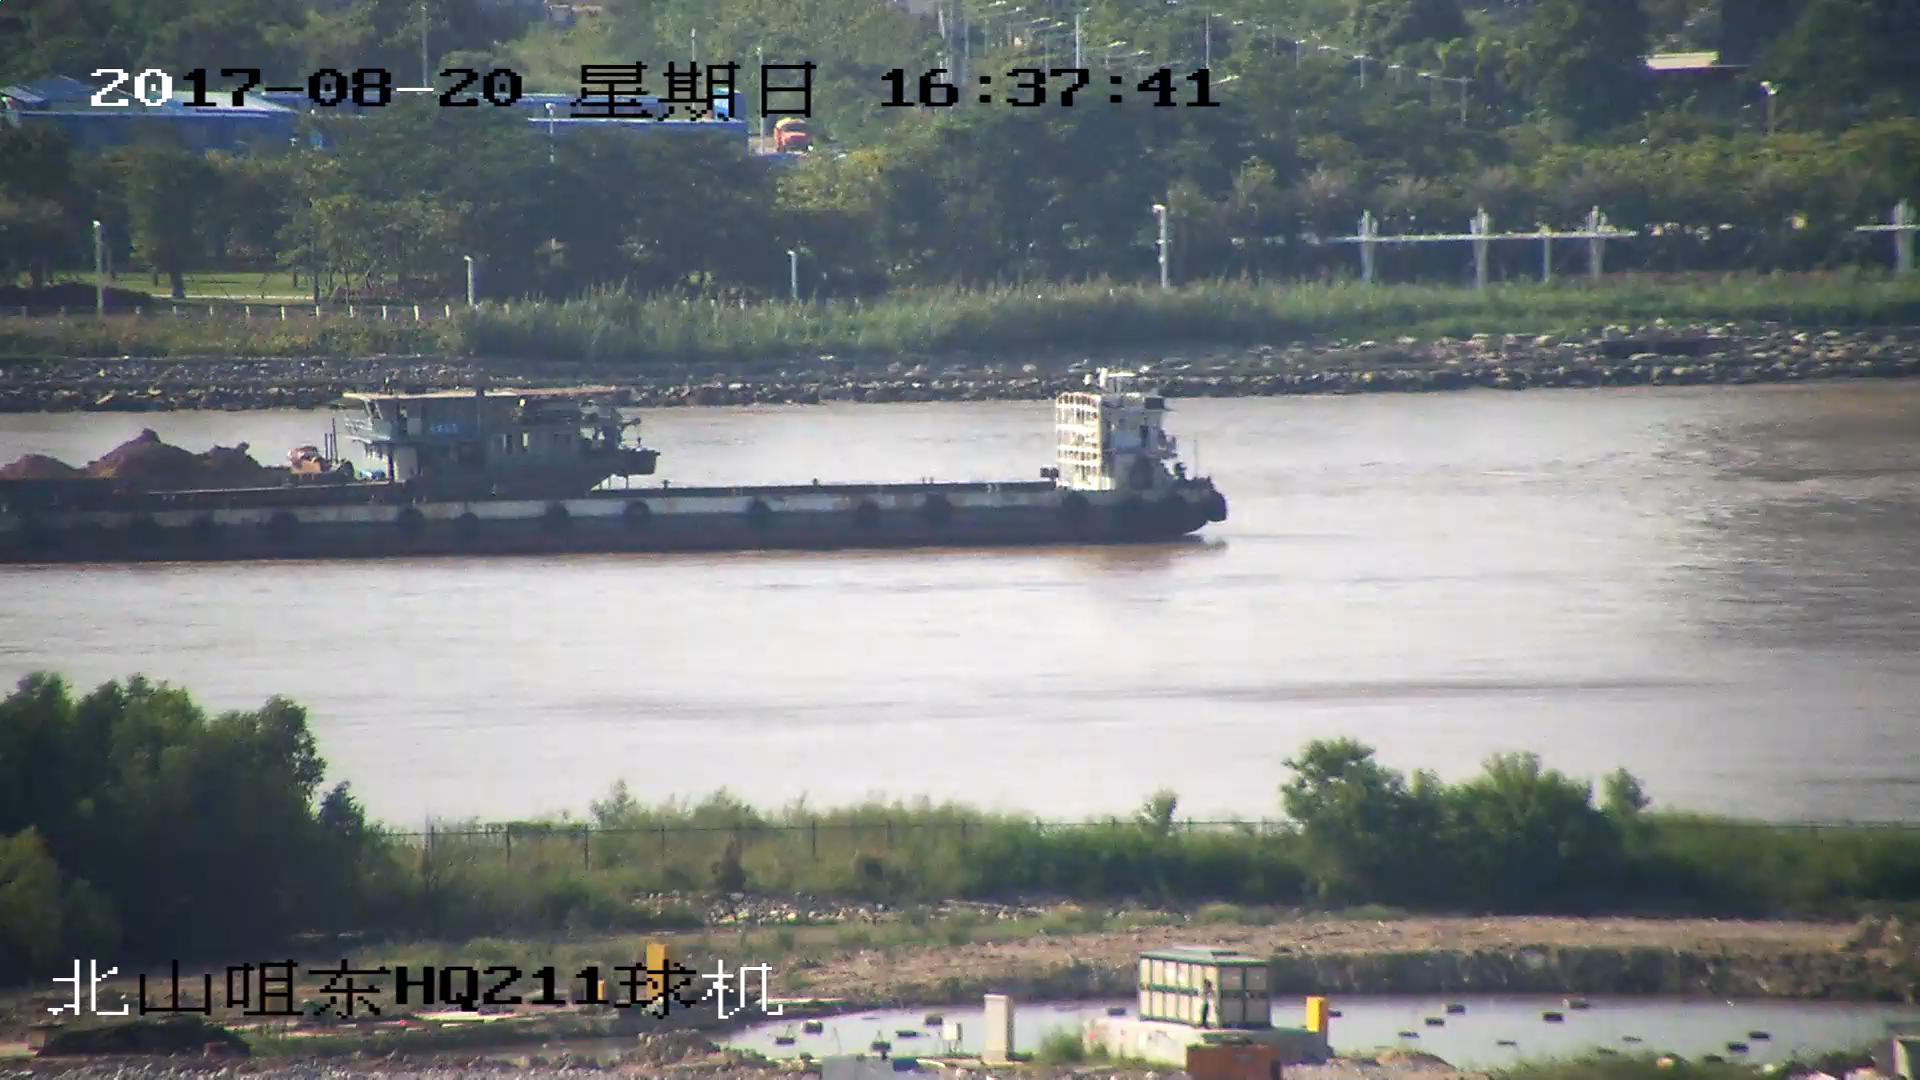Ship: (3, 385, 1234, 564), (3, 386, 654, 516)
